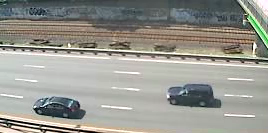car: (165, 82, 216, 108), (32, 95, 84, 119)
